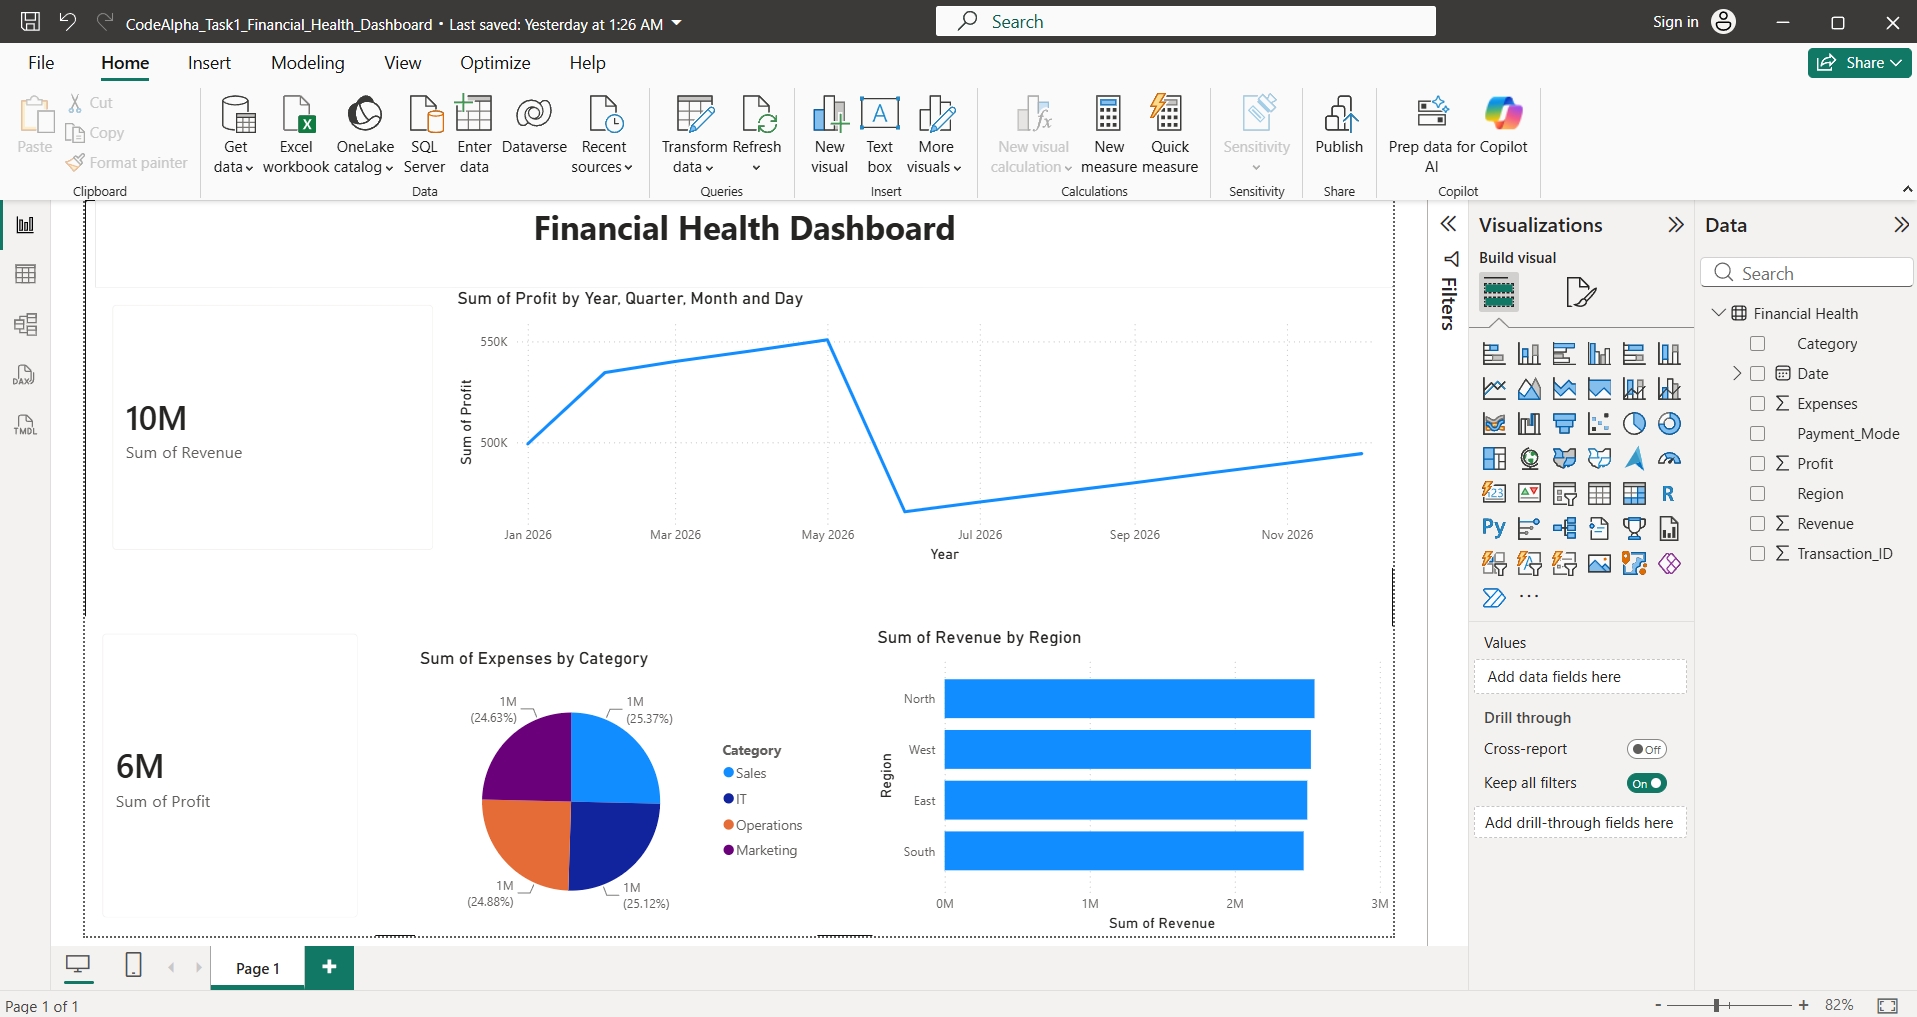

The page's visual inventory and layout, read from the dashboard file:
{"tool":"powerbi","page":{"name":"Page 1","canvas":[1280,720],"ordinal":0},"visuals":[{"type":"textbox","box":[9.6,0,1270.7,85.1],"z":0},{"type":"cardVisual","fields":{"Data":["Sum(Financial Health.Revenue)"]},"box":[9.6,85.1,348.5,274.4],"z":1},{"type":"cardVisual","fields":{"Data":["Sum(Financial Health.Profit)"]},"box":[0,407.5,284,312.9],"z":2},{"type":"lineChart","fields":{"Y":["Sum(Financial Health.Profit)"],"Category":["Financial Health.Date.Variation.Date Hierarchy.Year","Financial Health.Date.Variation.Date Hierarchy.Quarter","Financial Health.Date.Variation.Date Hierarchy.Month","Financial Health.Date.Variation.Date Hierarchy.Day"]},"box":[359.5,85.1,920.8,274.4],"z":3},{"type":"pieChart","fields":{"Y":["Sum(Financial Health.Expenses)"],"Category":["Financial Health.Category"]},"box":[322.5,437.7,393.8,282.7],"z":4},{"type":"clusteredBarChart","fields":{"Y":["Sum(Financial Health.Revenue)"],"Category":["Financial Health.Region"]},"box":[769.8,417.2,510.5,303.3],"z":5}]}

Visuals, with their boxes on the page's 1280x720 design canvas (x1, y1, x2, y2). These are canvas units, not pixel positions in the 1917x1017 screenshot, which may show the page scaled, cropped or inside an application window:
textbox: select_region(10, 0, 1280, 85)
cardVisual - Sum(Financial Health.Revenue): select_region(10, 85, 358, 360)
cardVisual - Sum(Financial Health.Profit): select_region(0, 408, 284, 720)
lineChart - Sum(Financial Health.Profit) x Financial Health.Date.Variation.Date Hierarchy.Year: select_region(360, 85, 1280, 360)
pieChart - Sum(Financial Health.Expenses) x Financial Health.Category: select_region(322, 438, 716, 720)
clusteredBarChart - Sum(Financial Health.Revenue) x Financial Health.Region: select_region(770, 417, 1280, 720)
